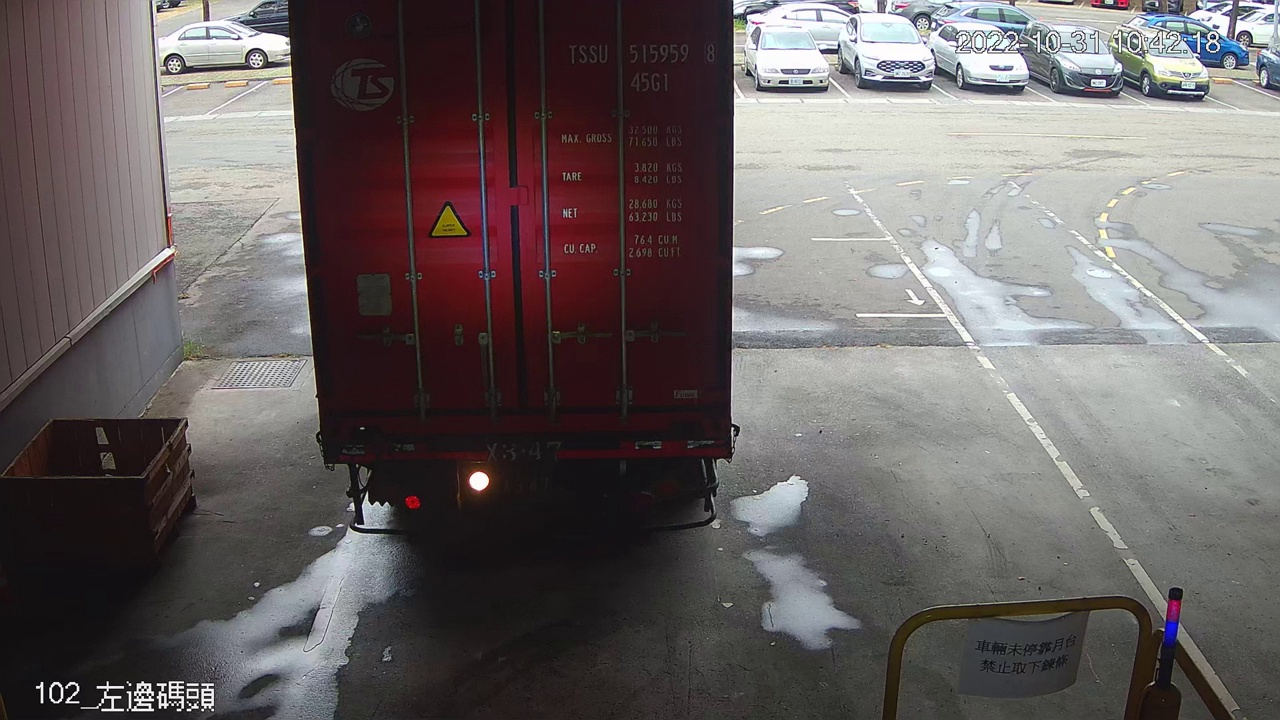container: (559, 35, 723, 98)
